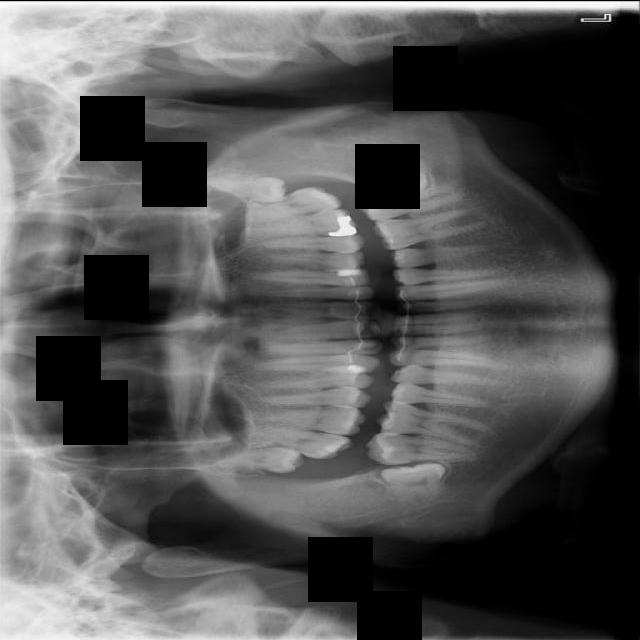3M ESPE Implant: (212, 446, 304, 472)
52: (310, 207, 358, 237), (327, 352, 380, 373), (326, 269, 369, 286)
73: (529, 80, 540, 85)
BioHorizons Implant: (239, 179, 342, 227)
BioLife Implant: (199, 170, 288, 203)
Biomet 3i Implant: (361, 153, 430, 192)
Blue Sky Bio Implant: (354, 183, 459, 221)
Caries: (245, 422, 354, 462)
Implant: (364, 428, 476, 475)
Keystone Dental Implant: (380, 459, 449, 511)
